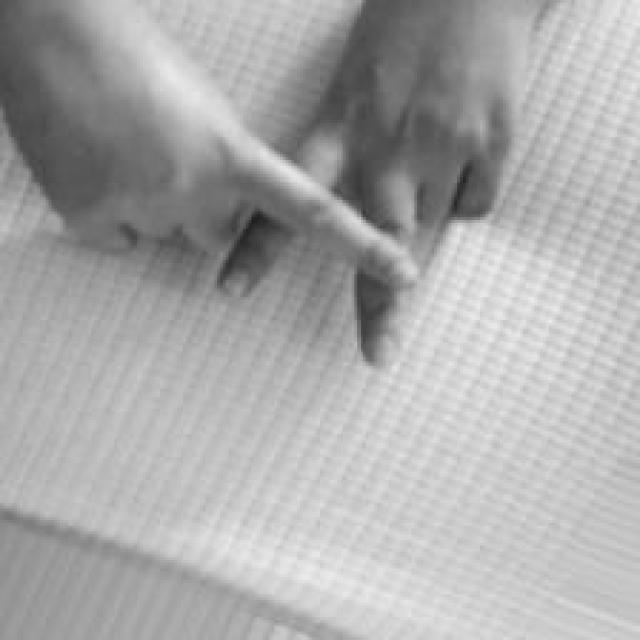A: (0, 0, 532, 371)
